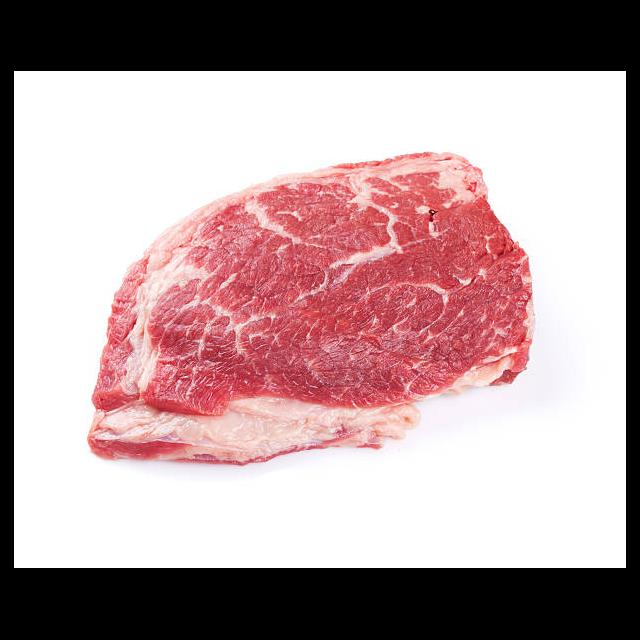beef: (87, 152, 537, 468)
